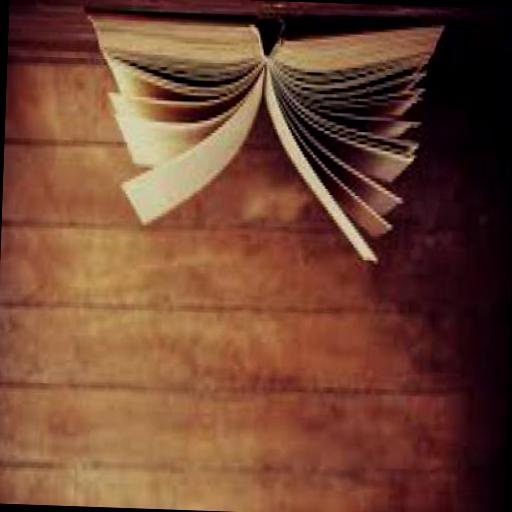paper: (74, 6, 446, 268), (118, 62, 264, 228), (258, 76, 382, 266)
